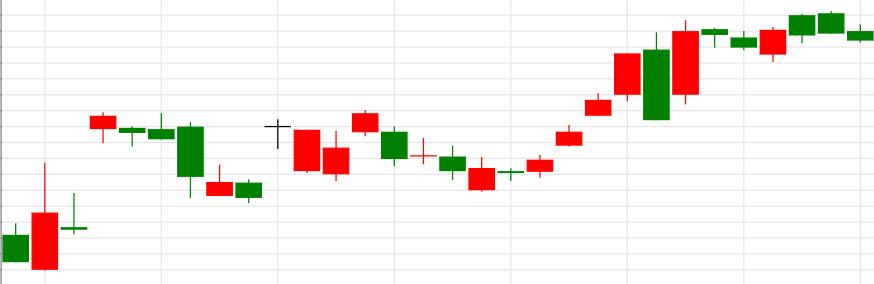bearish_engulfing_fall: (468, 31, 670, 193)
